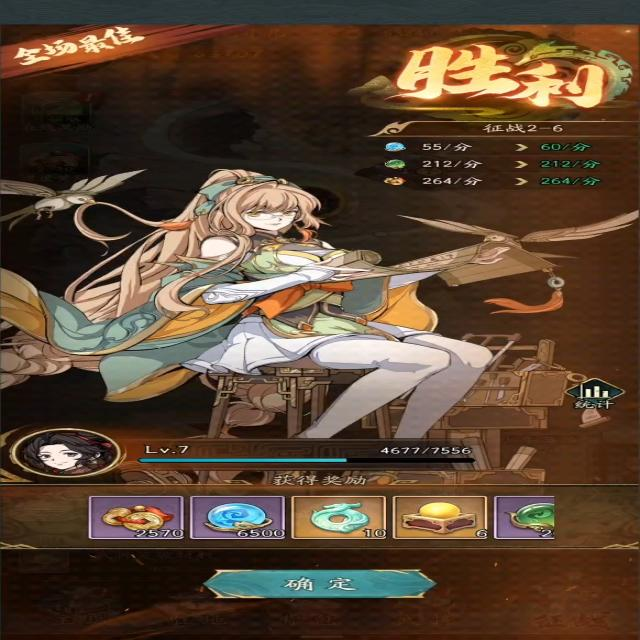operation-confirm: (202, 567, 436, 602)
